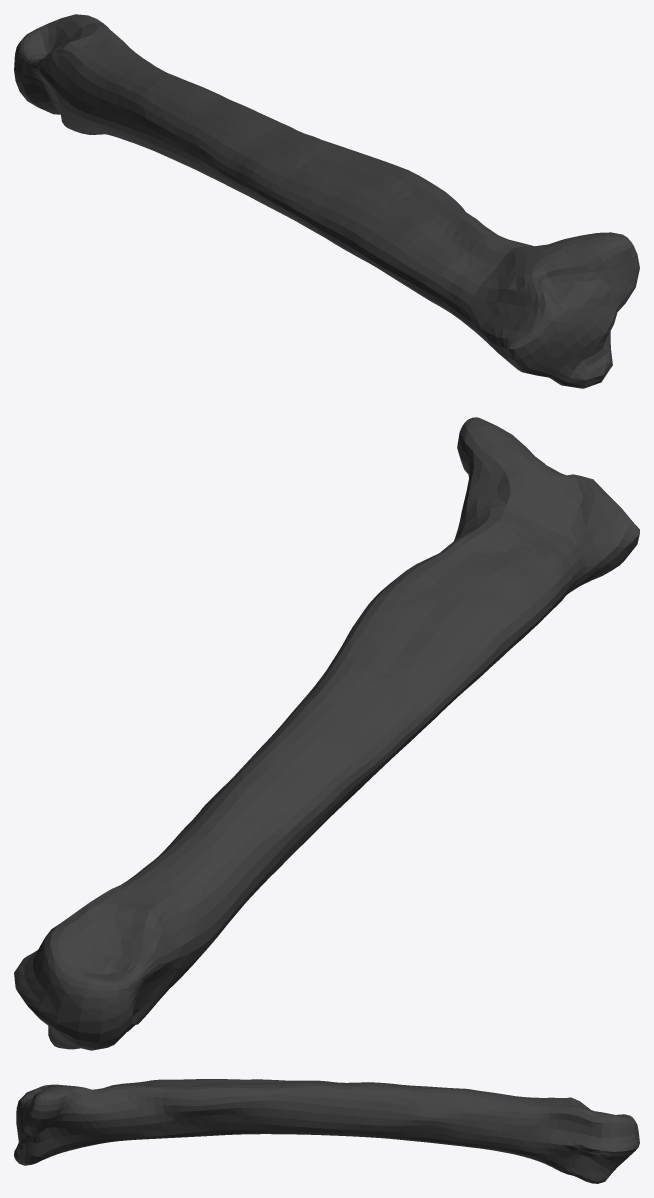
File: Metatarsus_II_III_IV_V_002_L.glb
3 renders of one model, top to bottom at view 1: azimuth 30°, elevation 25°; view 2: azimuth 150°, elevation 25°; view 3: azimuth 270°, elevation 25°, orthographic. The views are drawn at different scales.
Visible parts, largest first — view 1: Metatarsus_II_III_IV_V_002_L; view 2: Metatarsus_II_III_IV_V_002_L; view 3: Metatarsus_II_III_IV_V_002_L.
Boxes of the visible parts, bbox=[...] form: Metatarsus_II_III_IV_V_002_L: bbox=[14, 14, 639, 388]; Metatarsus_II_III_IV_V_002_L: bbox=[14, 417, 639, 1050]; Metatarsus_II_III_IV_V_002_L: bbox=[14, 1079, 639, 1183].
Bounding box in the file's own units: 0.0234 × 0.0231 × 0.1127.
1 material, 1 textured.
